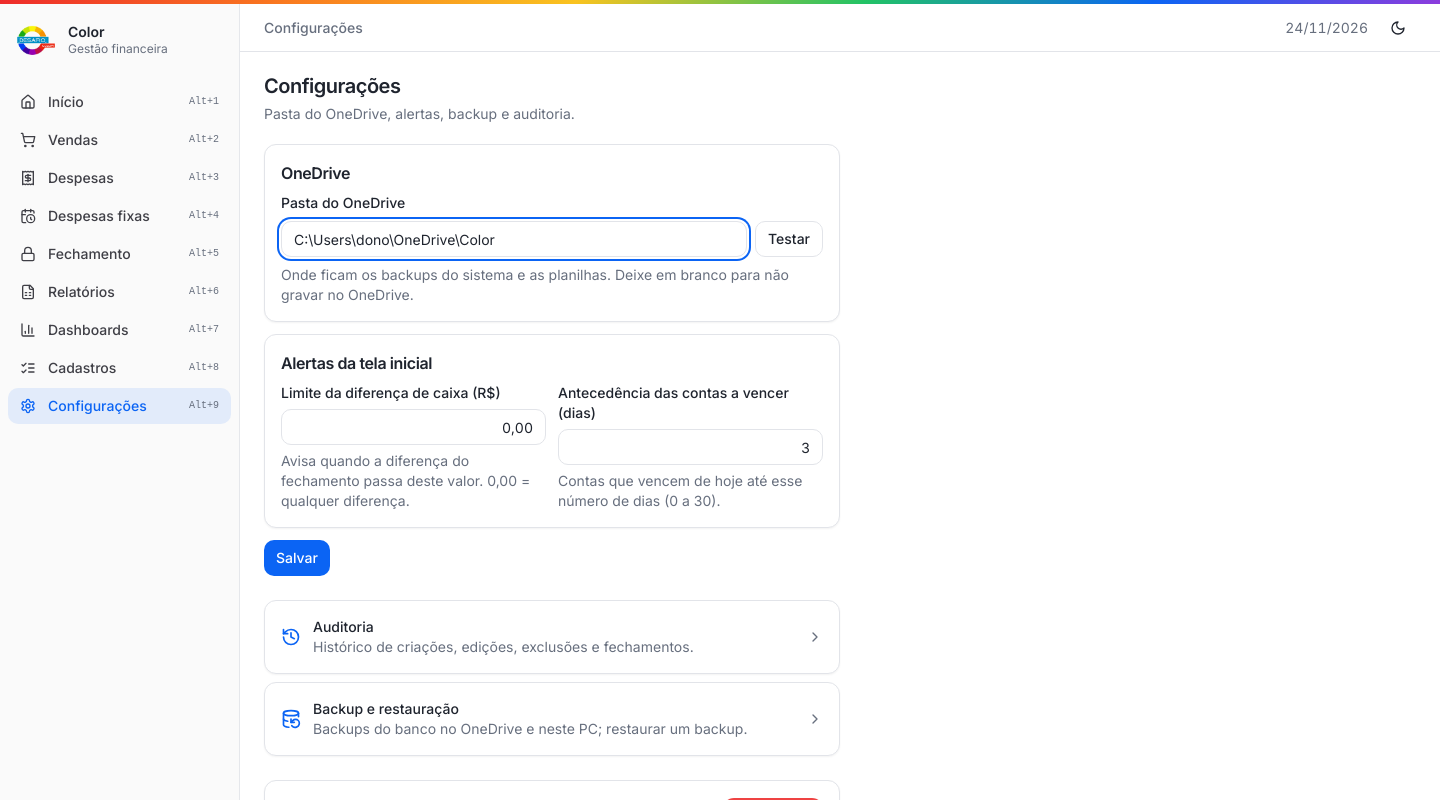
Test case: FR-33: Configurações form › FR-33: a folder refused by the server shows its pt-BR message
Type "D:\\Nada" into the field labelled "Pasta do OneDrive" at (514, 239), box [281, 221, 747, 257]
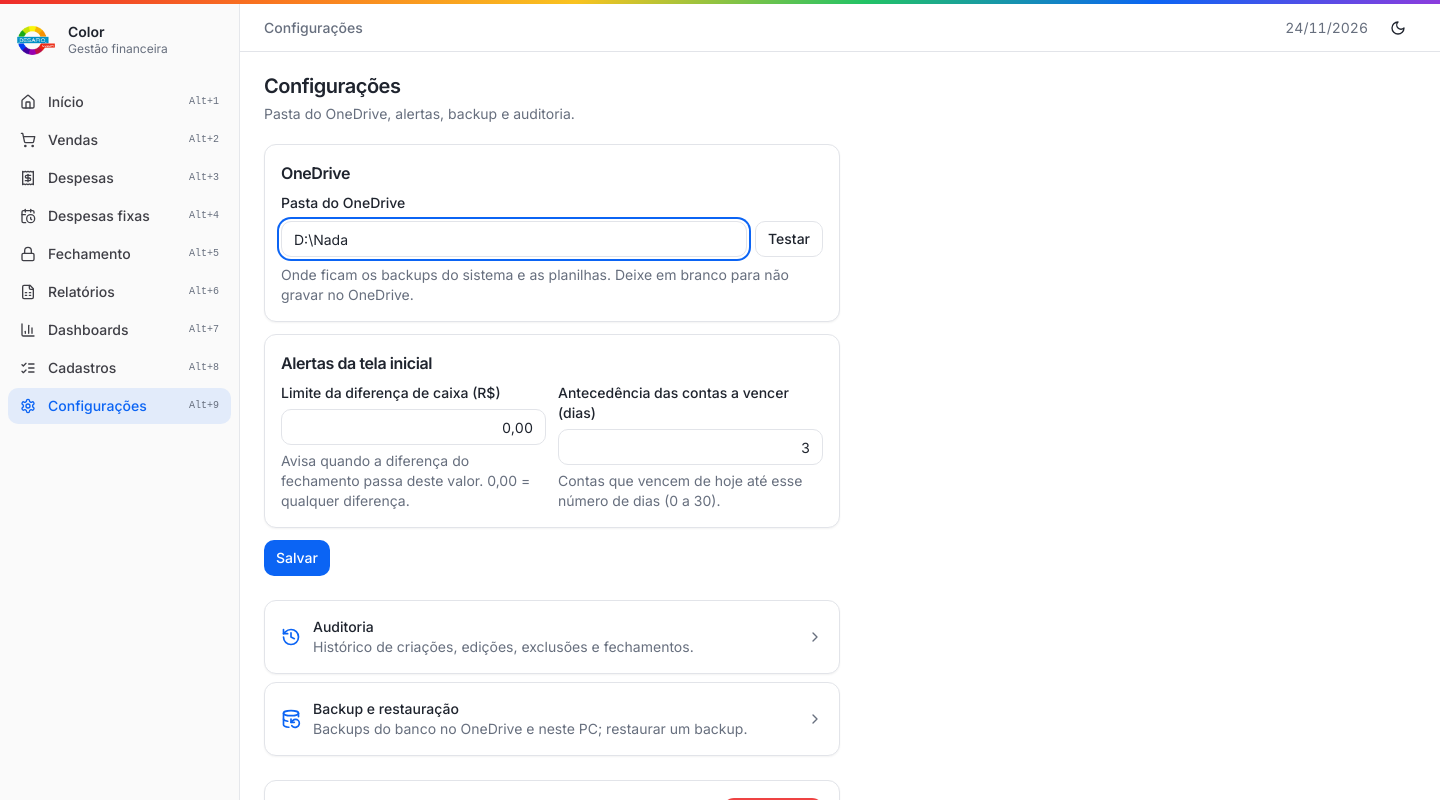
Submit the form named "Configurações", box [264, 144, 840, 576]
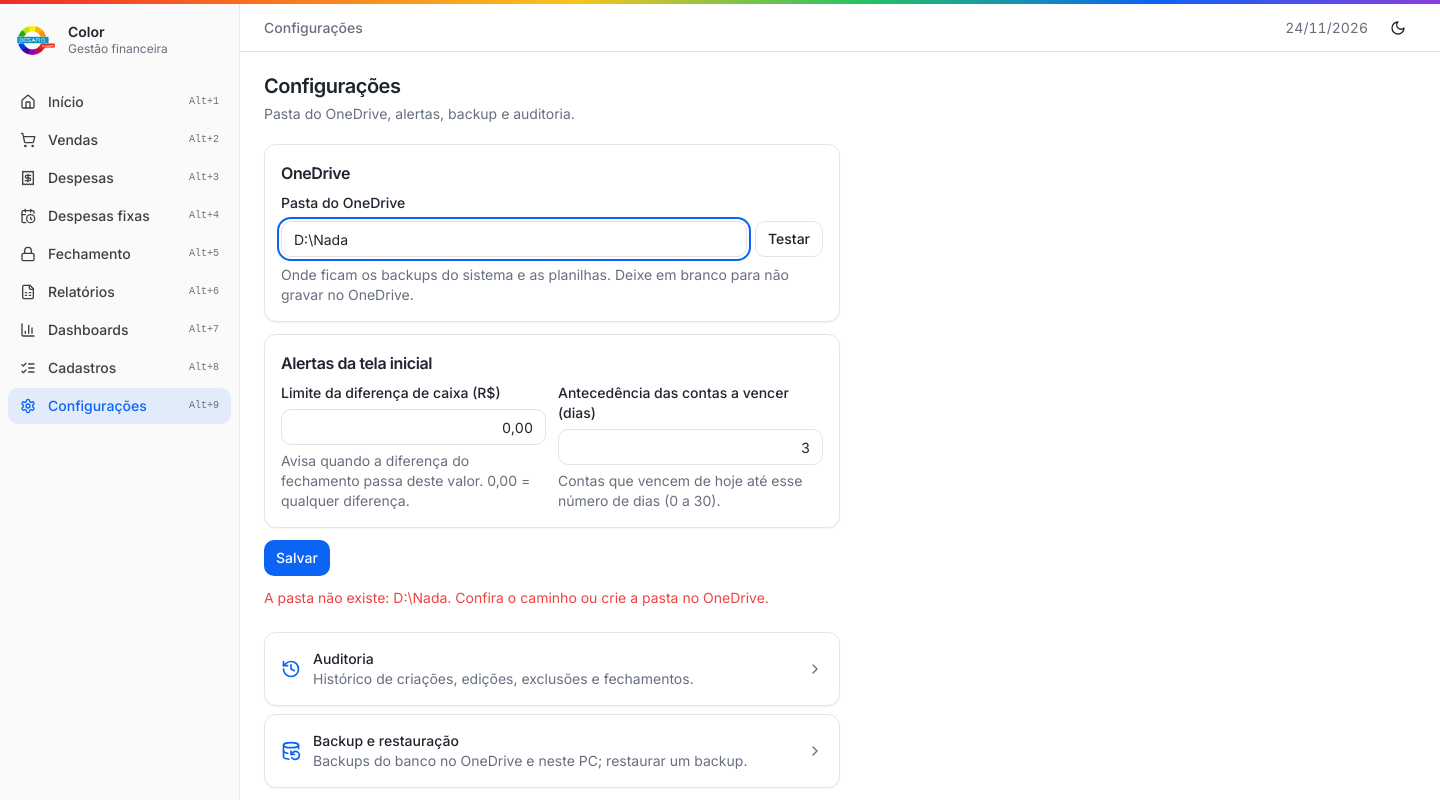
expect the message shows "A pasta não existe: D:\\Nada.": met, box [264, 589, 769, 606]
